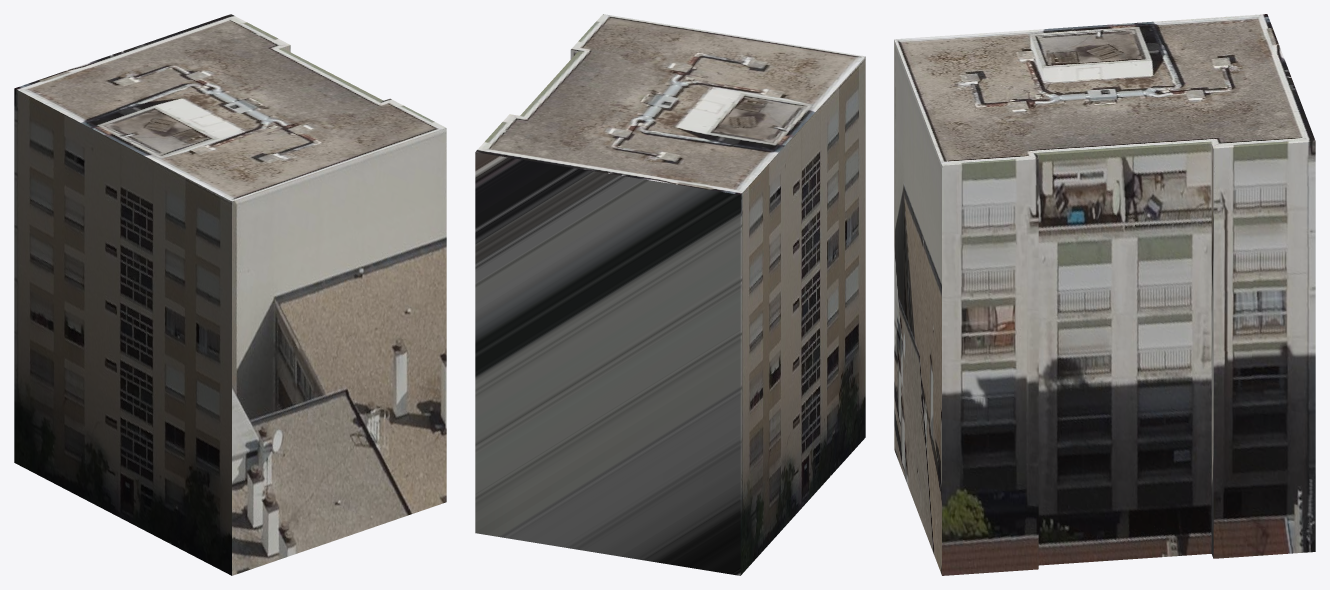
3 views of the same model, side by side, from view 1: azimuth 30°, elevation 25°; view 2: azimuth 150°, elevation 25°; view 3: azimuth 270°, elevation 25° (orthographic). The views are drawn at different scales.
Parts seen in each view (by area): view 1: Z_UP; view 2: Z_UP; view 3: Z_UP.
Boxes of the visible parts, x1,y1,x2,y2 form: Z_UP: [14, 14, 446, 575]; Z_UP: [475, 14, 865, 575]; Z_UP: [894, 14, 1315, 575].
Bounding box in the file's own units: 15.52 × 19.57 × 18.23.
Materials: 2 (1 with a texture image).
